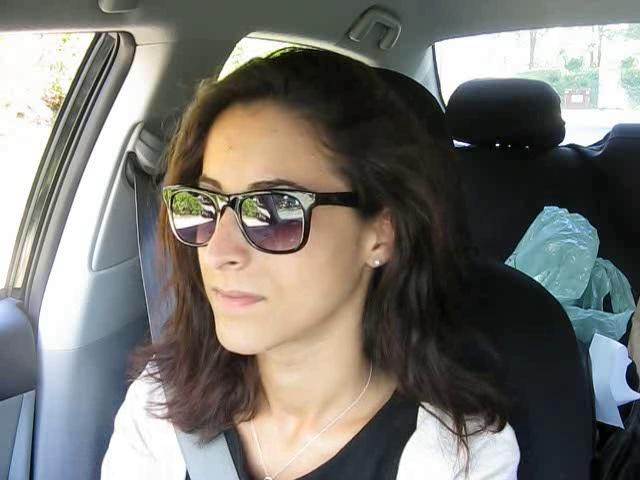no_yawn: (196, 277, 278, 320)
